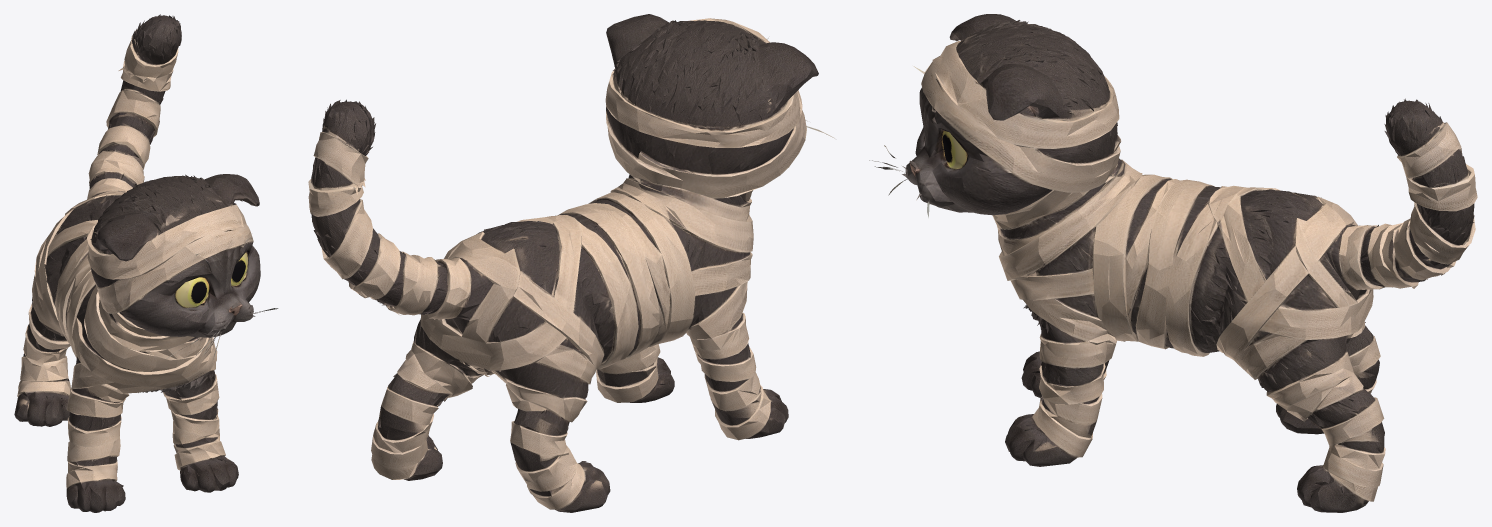
The picture shows the model from 3 angles, left to right: view 1: azimuth 30°, elevation 25°; view 2: azimuth 150°, elevation 25°; view 3: azimuth 270°, elevation 25°; orthographic projection. The views are drawn at different scales.
Parts seen in each view (by area): view 1: Mesh_0; view 2: Mesh_0; view 3: Mesh_0.
Boxes of the visible parts, x1,y1,x2,y2 form: Mesh_0: (14,14,278,512); Mesh_0: (308,14,834,512); Mesh_0: (869,14,1477,512).
Size of the model in its own units: 1.11 by 1.39 by 1.87.
Materials: 1 (1 with a texture image).
